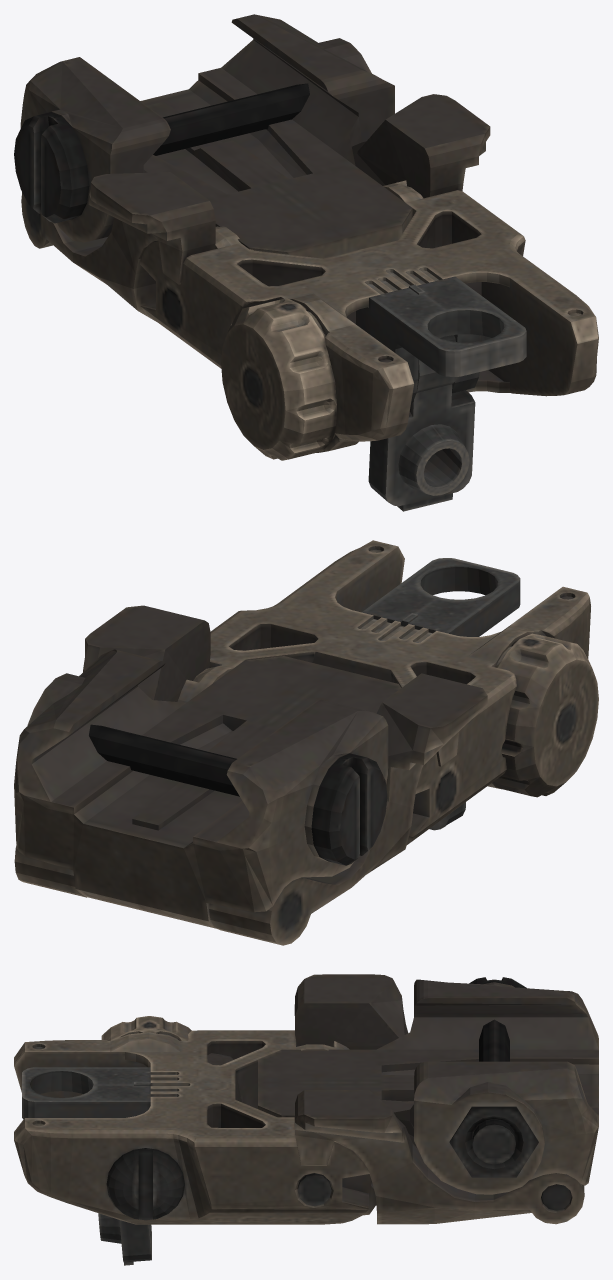
The picture shows the model from 3 angles, top to bottom: view 1: azimuth 30°, elevation 25°; view 2: azimuth 150°, elevation 25°; view 3: azimuth 270°, elevation 25°; orthographic projection. The views are drawn at different scales.
Visible parts, largest first — view 1: TW_5c18b9192e2216398b5a8104_folded_PZ_Import; view 2: TW_5c18b9192e2216398b5a8104_folded_PZ_Import; view 3: TW_5c18b9192e2216398b5a8104_folded_PZ_Import.
Boxes of the visible parts, left/top/right/bottom form: TW_5c18b9192e2216398b5a8104_folded_PZ_Import: left=14, top=14, right=598, bottom=511; TW_5c18b9192e2216398b5a8104_folded_PZ_Import: left=14, top=540, right=598, bottom=945; TW_5c18b9192e2216398b5a8104_folded_PZ_Import: left=14, top=974, right=598, bottom=1265.
Size of the model in its own units: 0.0209 by 0.0358 by 0.0152.
Materials: 1 (1 with a texture image).
